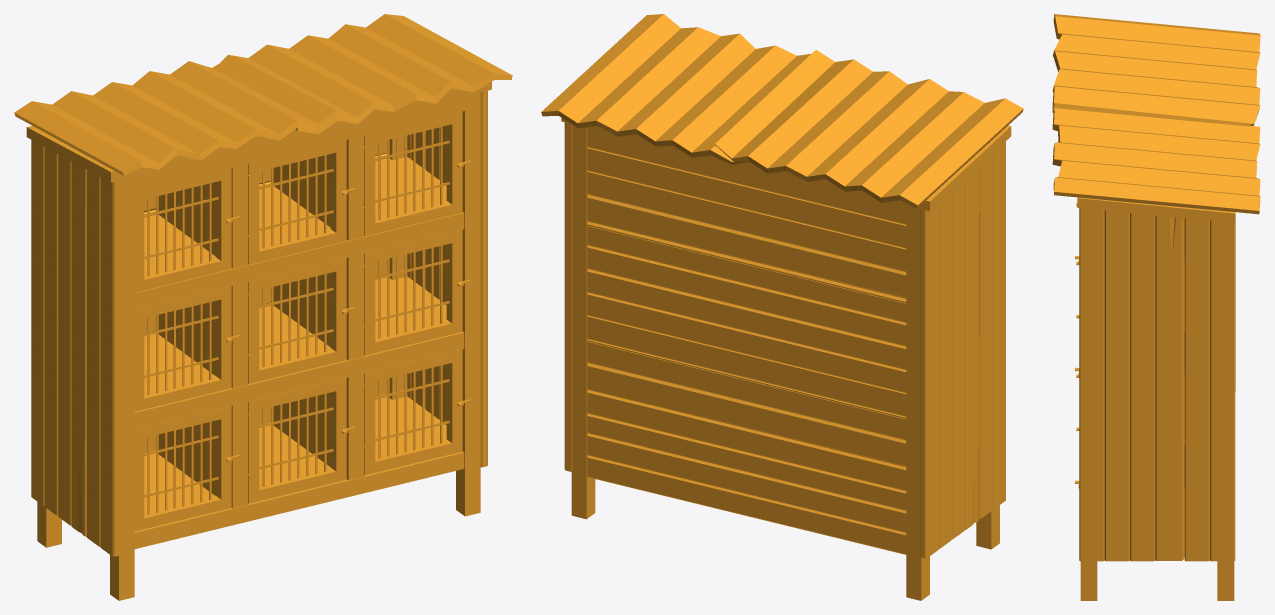
File: SM_Hutch_A.fbx
3 views of the same model, side by side, from view 1: azimuth 30°, elevation 25°; view 2: azimuth 150°, elevation 25°; view 3: azimuth 270°, elevation 25° (orthographic). The views are drawn at different scales.
Parts seen in each view (by area): view 1: hutch-a-base, hutch-a-roof, hutch-a-door-c, hutch-a-door-b, hutch-a-door-a; view 2: hutch-a-base, hutch-a-roof; view 3: hutch-a-base, hutch-a-roof.
Boxes of the visible parts, box(x1,y1,x2,y2) form: hutch-a-base: box(26, 81, 491, 600); hutch-a-roof: box(14, 14, 512, 175); hutch-a-door-c: box(248, 377, 346, 503); hutch-a-door-b: box(134, 286, 231, 411); hutch-a-door-a: box(364, 111, 462, 236); hutch-a-base: box(561, 117, 1011, 600); hutch-a-roof: box(541, 14, 1023, 208); hutch-a-base: box(1075, 197, 1235, 600); hutch-a-roof: box(1052, 14, 1260, 214).
Bounding box in the file's own units: 2.05 × 2.26 × 1.
